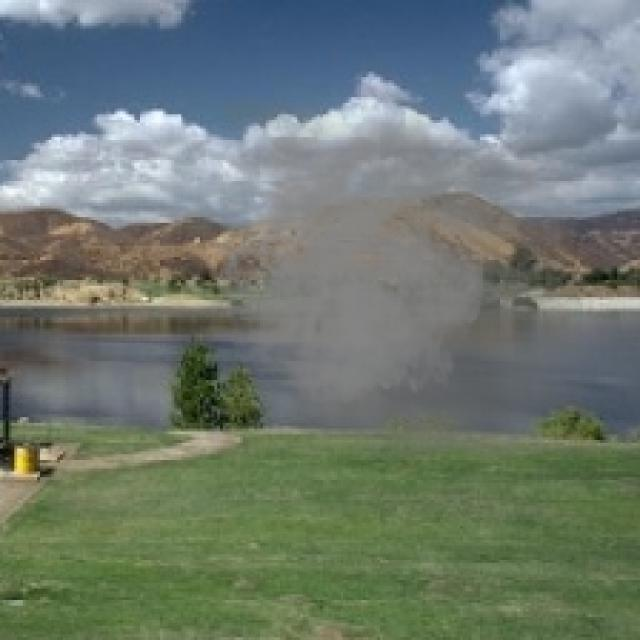Smoke: (208, 97, 583, 463)
